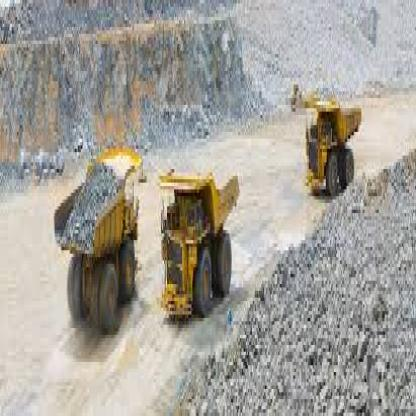dump_truck: (52, 112, 140, 345), (160, 138, 242, 332), (296, 54, 374, 223)
